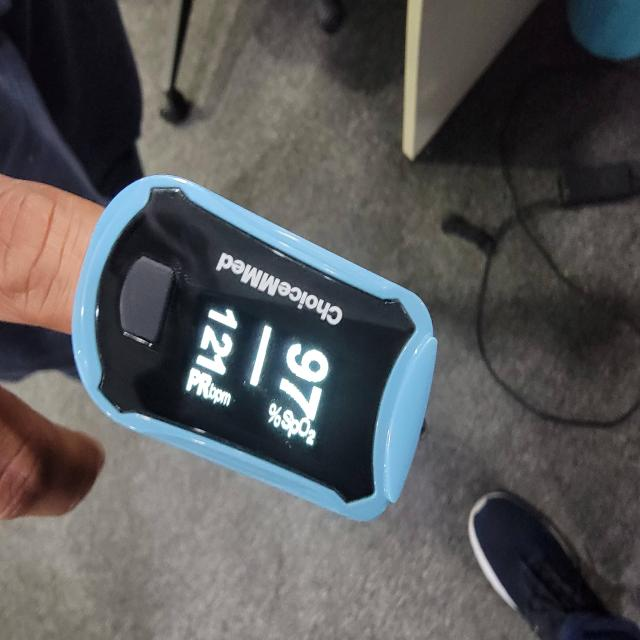spo2: (70, 175, 438, 525)
